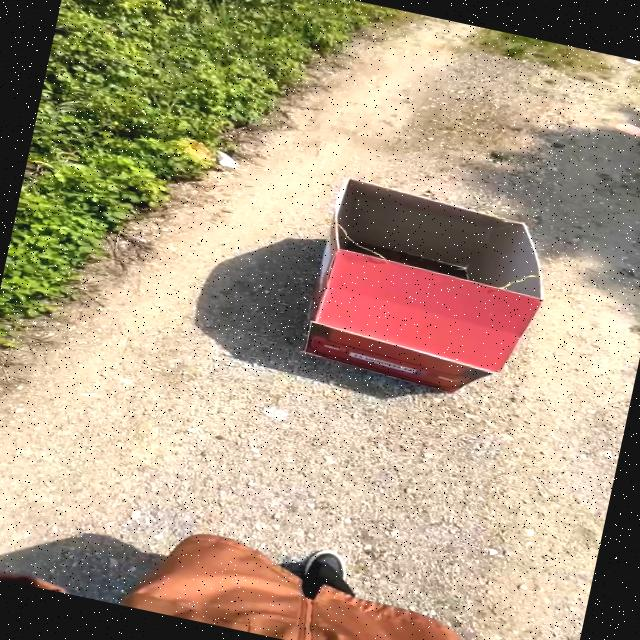red_car: (222, 162, 574, 418)
